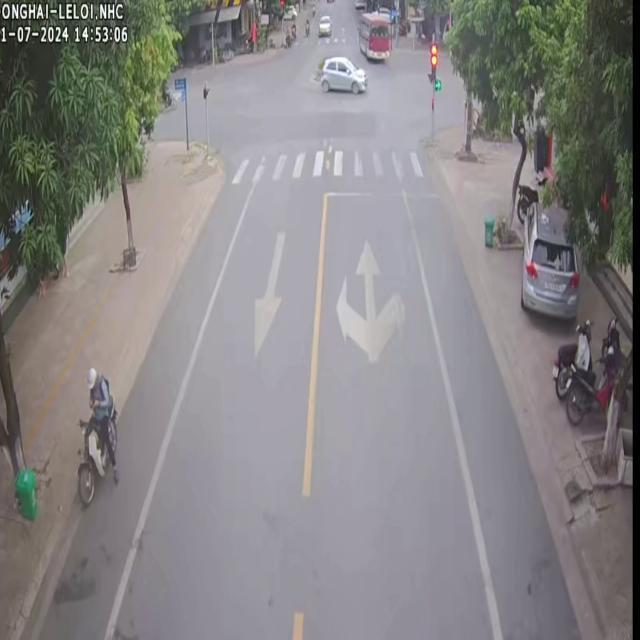car: (519, 200, 578, 318), (319, 56, 366, 91), (357, 11, 389, 58), (317, 14, 330, 36)
motobike: (76, 365, 117, 502), (564, 349, 613, 422), (552, 318, 590, 398)
red_light: (429, 43, 438, 81)
stop_line: (325, 190, 443, 197)
